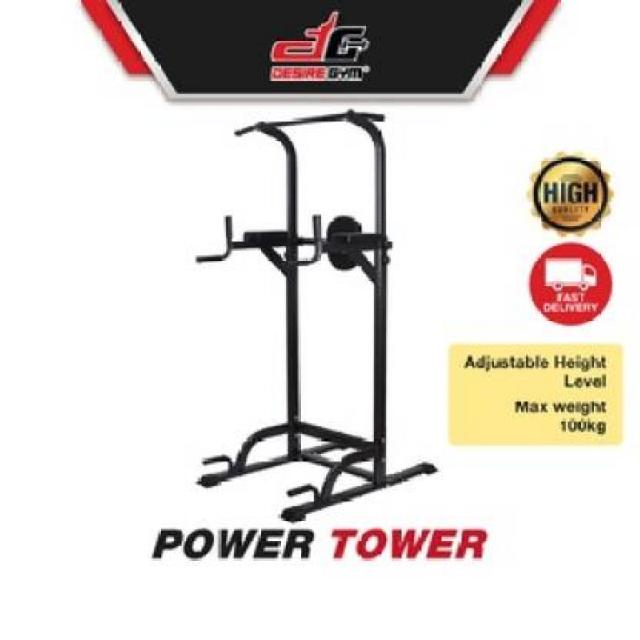chinning dipping: (200, 108, 438, 522)
